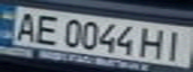0: (60, 16, 84, 48), (78, 18, 100, 52)
4: (96, 20, 121, 54), (115, 22, 139, 56)
A: (9, 9, 42, 43)
E: (30, 11, 63, 45)
H: (139, 26, 169, 60)
I: (160, 28, 193, 62)
